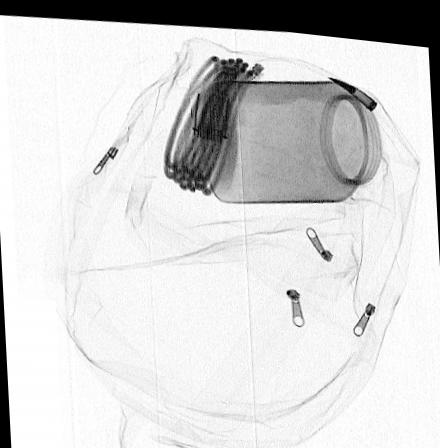Bullet: (325, 70, 379, 104)
